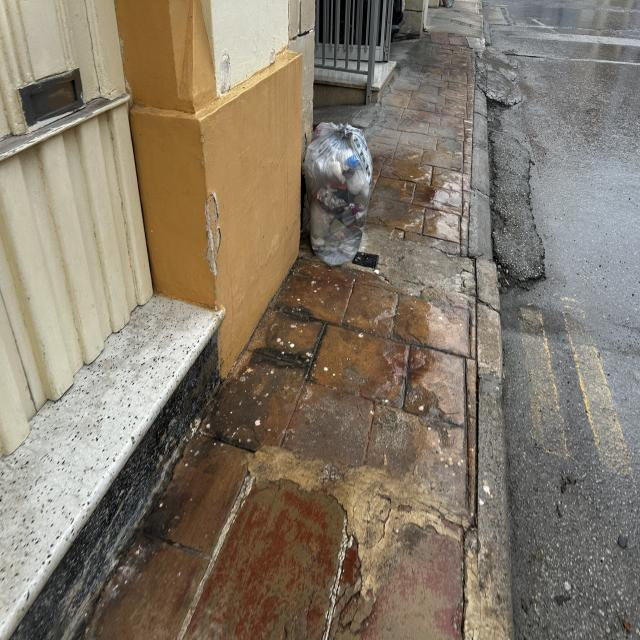Recyclable Material -Grey Bags-: (302, 122, 373, 266)
